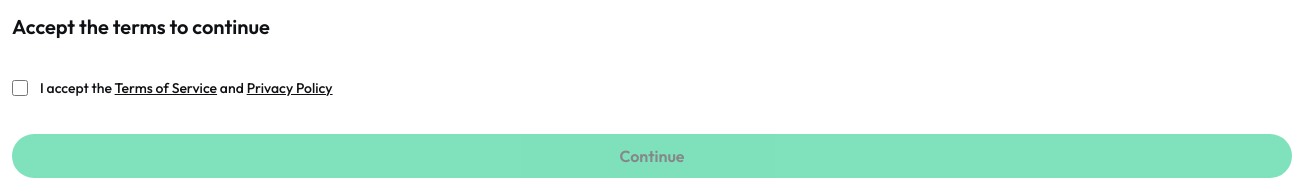
Test case: ConsentForm › keeps Continue button disabled until checked
Check: the button "Continue" is disabled, box top-left (12, 134), bottom-right (1292, 178)
Click the checkbox labelled "I accept the Terms of Service and Privacy Policy" at [20, 88], box top-left (12, 80), bottom-right (28, 96)
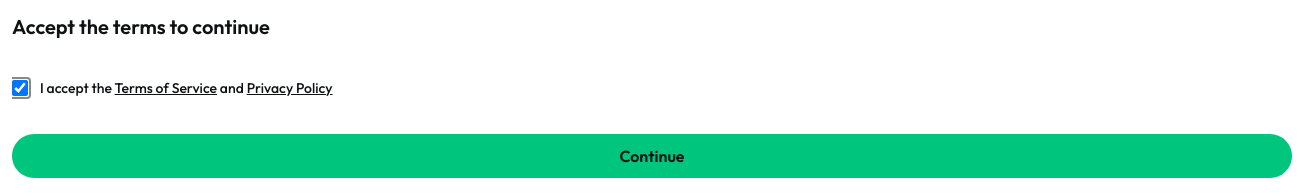
Check: the button "Continue" is enabled, box top-left (12, 134), bottom-right (1292, 178)
Click the checkbox labelled "I accept the Terms of Service and Privacy Policy" at [20, 88], box top-left (12, 80), bottom-right (28, 96)
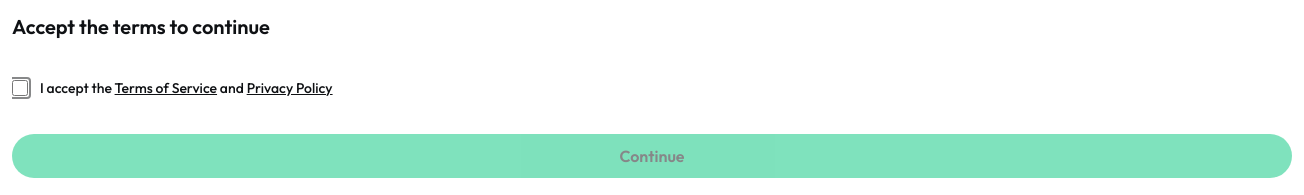
Check: the button "Continue" is disabled, box top-left (12, 134), bottom-right (1292, 178)
